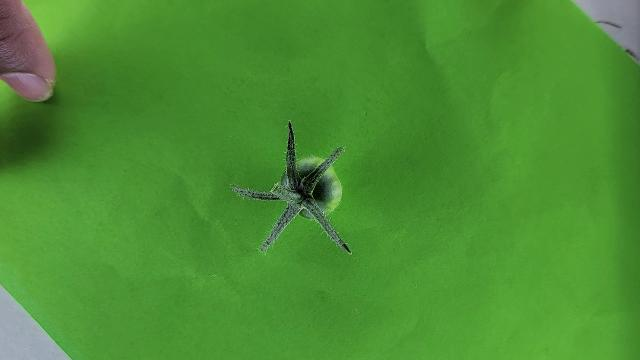Fruit Maturation: (282, 155, 345, 220)
